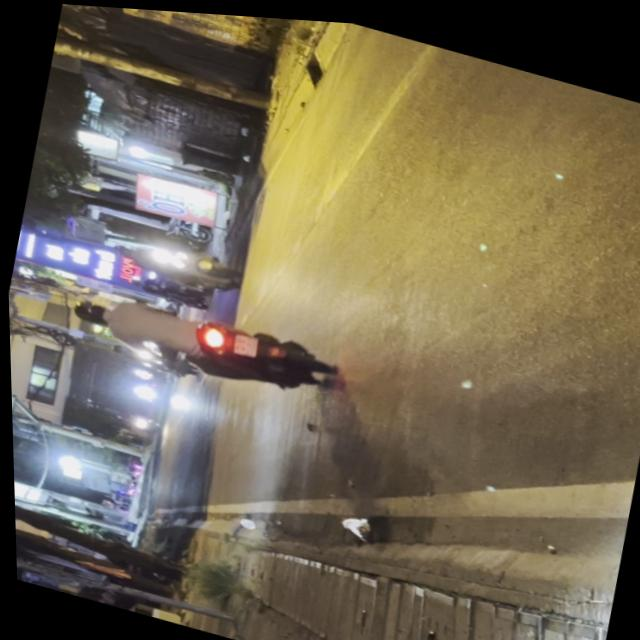helmet: (65, 294, 106, 325)
licenseplate: (59, 274, 337, 404)
nohelmet: (226, 326, 255, 354)
